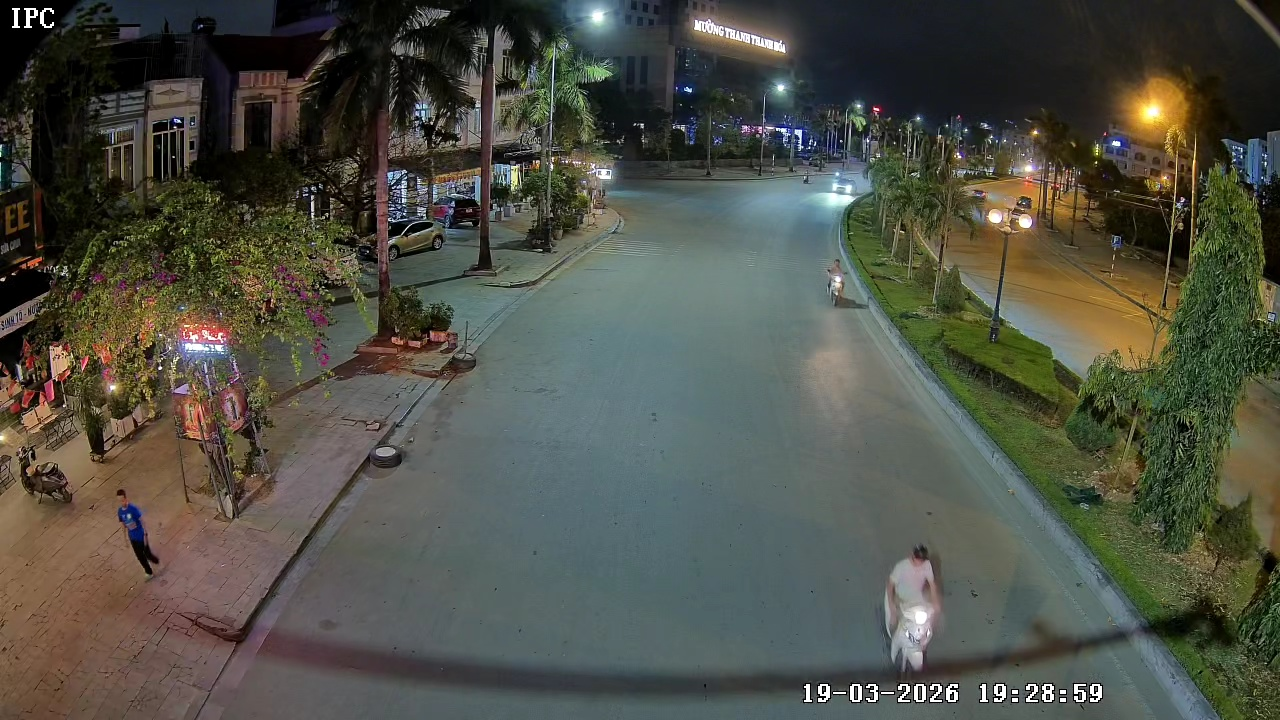motorbike: (877, 540, 947, 677), (824, 257, 850, 307)
pedestrian: (109, 485, 166, 580)
